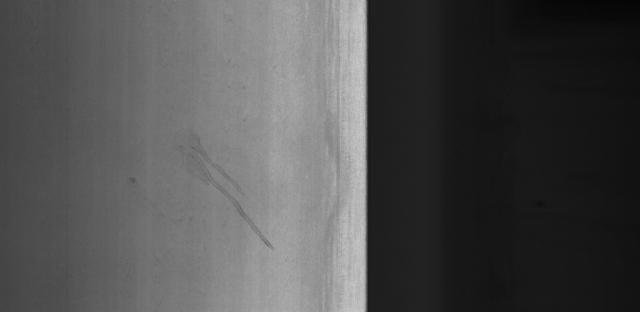water_spot: (120, 118, 283, 256)
